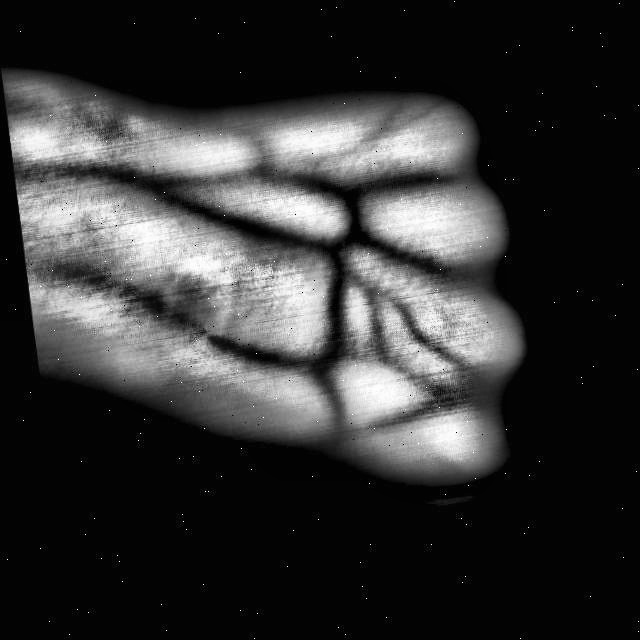Vein: (92, 151, 308, 262), (95, 253, 279, 380)
